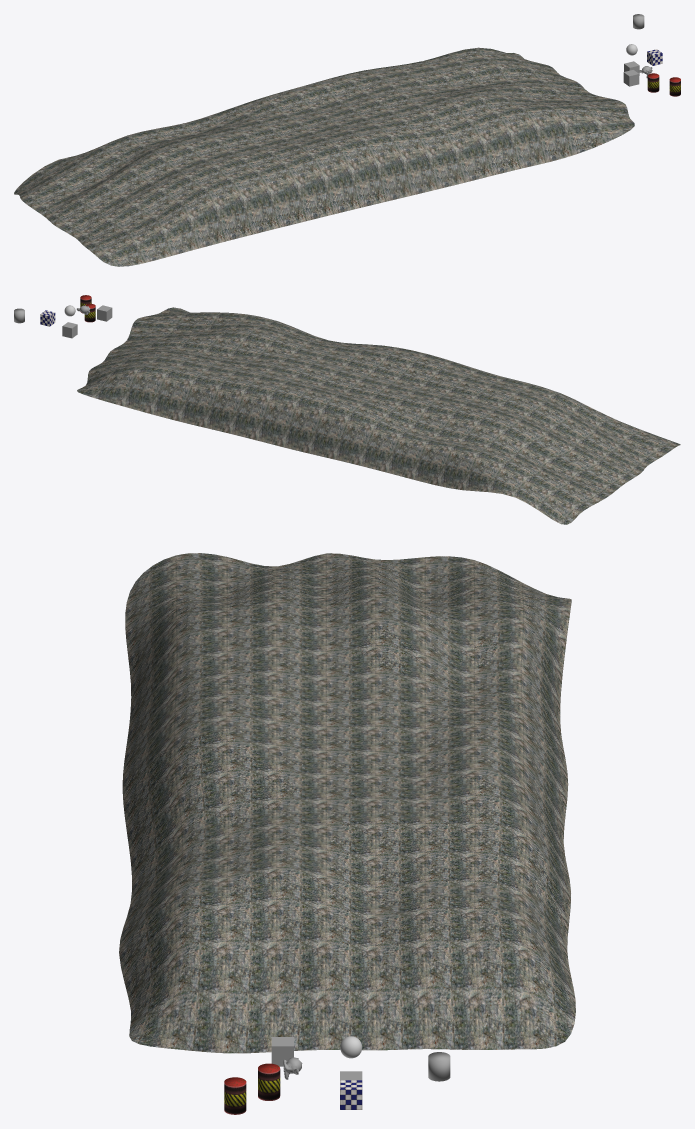
Rendered from twoObjTest.obj.
3 renders of one model, top to bottom at view 1: azimuth 30°, elevation 25°; view 2: azimuth 150°, elevation 25°; view 3: azimuth 270°, elevation 25°, orthographic. The views are drawn at different scales.
Visible parts, largest first — view 1: Grid; view 2: Grid; view 3: Grid, Cylinder.001_Cylinder.006, Cylinder.005.
Boxes of the visible parts, box(x1,y1,x2,y2) form: Grid: box(14, 47, 634, 266); Grid: box(77, 307, 680, 524); Grid: box(119, 553, 575, 1053); Cylinder.001_Cylinder.006: box(224, 1077, 246, 1114); Cylinder.005: box(258, 1063, 280, 1100).
Size of the model in its own units: 124 by 10.35 by 41.12.
